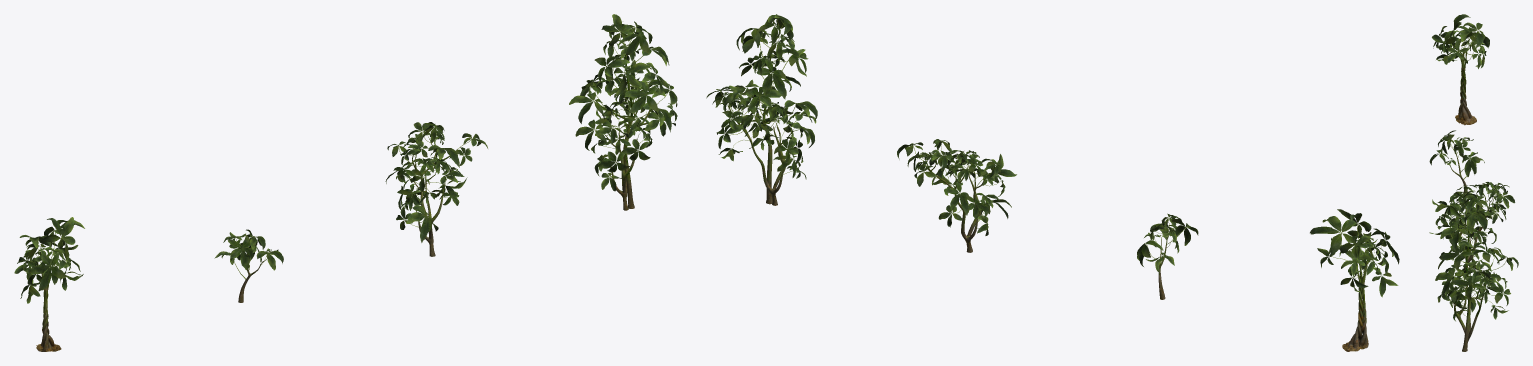
The model's file is pachira_aquatica_01_2k.gltf.
3 renders of one model, left to right at view 1: azimuth 30°, elevation 25°; view 2: azimuth 150°, elevation 25°; view 3: azimuth 270°, elevation 25°, orthographic. The views are drawn at different scales.
Visible parts, largest first — view 1: pachira_aquatica_01_leaves_d, pachira_aquatica_01_leaves_c, pachira_aquatica_01_leaves_a, pachira_aquatica_01_leaves_b, pachira_aquatica_01_bark_d, pachira_aquatica_01_bark_c, pachira_aquatica_01_bark_a; view 2: pachira_aquatica_01_leaves_d, pachira_aquatica_01_leaves_c, pachira_aquatica_01_leaves_a, pachira_aquatica_01_leaves_b, pachira_aquatica_01_bark_d, pachira_aquatica_01_bark_a, pachira_aquatica_01_bark_c; view 3: pachira_aquatica_01_leaves_d, pachira_aquatica_01_leaves_c, pachira_aquatica_01_leaves_a, pachira_aquatica_01_leaves_b, pachira_aquatica_01_bark_d, pachira_aquatica_01_bark_a, pachira_aquatica_01_bark_c, pachira_aquatica_01_bark_b.
Boxes of the visible parts, left/top/right/bottom form: pachira_aquatica_01_leaves_d: left=569, top=14, right=677, bottom=191; pachira_aquatica_01_leaves_c: left=385, top=122, right=487, bottom=242; pachira_aquatica_01_leaves_a: left=14, top=217, right=84, bottom=303; pachira_aquatica_01_leaves_b: left=214, top=229, right=283, bottom=279; pachira_aquatica_01_bark_d: left=595, top=44, right=652, bottom=210; pachira_aquatica_01_bark_c: left=409, top=137, right=457, bottom=256; pachira_aquatica_01_bark_a: left=36, top=265, right=61, bottom=351; pachira_aquatica_01_leaves_d: left=706, top=14, right=817, bottom=179; pachira_aquatica_01_leaves_c: left=897, top=139, right=1016, bottom=235; pachira_aquatica_01_leaves_a: left=1310, top=209, right=1399, bottom=297; pachira_aquatica_01_leaves_b: left=1137, top=213, right=1198, bottom=274; pachira_aquatica_01_bark_d: left=728, top=43, right=793, bottom=205; pachira_aquatica_01_bark_a: left=1342, top=259, right=1368, bottom=351; pachira_aquatica_01_bark_c: left=923, top=159, right=989, bottom=252; pachira_aquatica_01_leaves_d: left=1429, top=190, right=1518, bottom=321; pachira_aquatica_01_leaves_c: left=1432, top=182, right=1515, bottom=244; pachira_aquatica_01_leaves_a: left=1432, top=14, right=1489, bottom=68; pachira_aquatica_01_leaves_b: left=1429, top=130, right=1484, bottom=179; pachira_aquatica_01_bark_d: left=1454, top=219, right=1492, bottom=351; pachira_aquatica_01_bark_a: left=1455, top=50, right=1476, bottom=125; pachira_aquatica_01_bark_c: left=1453, top=190, right=1497, bottom=268; pachira_aquatica_01_bark_b: left=1447, top=149, right=1467, bottom=195.
Size of the model in its own units: 6.87 by 1.9 by 0.997.
2 materials, 2 textured.
